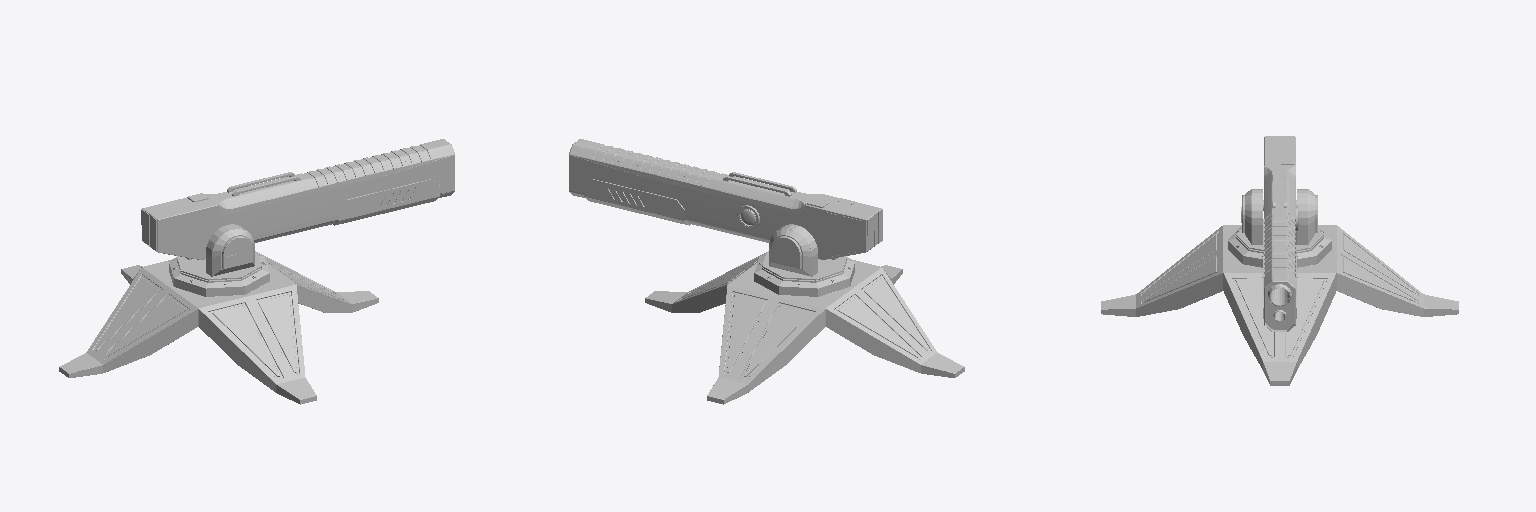
Rendered from torreta.obj.
The picture shows the model from 3 angles: view 1: azimuth 30°, elevation 25°; view 2: azimuth 150°, elevation 25°; view 3: azimuth 270°, elevation 25°; orthographic projection.
Parts seen in each view (by area): view 1: Tripod, Gun, UnderPlate; view 2: Tripod, Gun, UnderPlate; view 3: Tripod, Gun.
Boxes of the visible parts, x1=… form: Tripod: x1=59, y1=224, x2=378, y2=404; Gun: x1=141, y1=139, x2=454, y2=259; UnderPlate: x1=333, y1=179, x2=439, y2=225; Tripod: x1=645, y1=224, x2=964, y2=404; Gun: x1=569, y1=139, x2=882, y2=259; UnderPlate: x1=584, y1=179, x2=690, y2=225; Tripod: x1=1101, y1=189, x2=1458, y2=385; Gun: x1=1263, y1=136, x2=1296, y2=331.
Bounding box in the file's own units: 6.1 × 2.19 × 4.93.